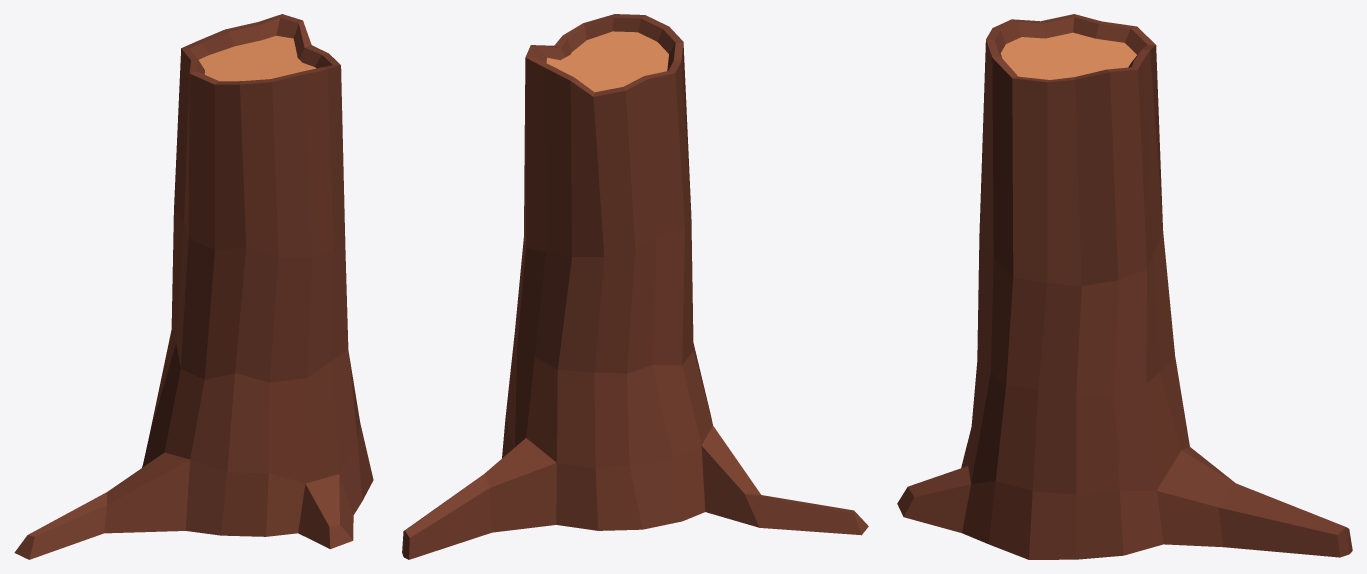
The model's file is pine_trunk_type_6_LOD0.fbx.
3 views of the same model, side by side, from view 1: azimuth 30°, elevation 25°; view 2: azimuth 150°, elevation 25°; view 3: azimuth 270°, elevation 25° (orthographic). The views are drawn at different scales.
Parts seen in each view (by area): view 1: pt_type_4; view 2: pt_type_4; view 3: pt_type_4.
Boxes of the visible parts, left/top/right/bottom form: pt_type_4: left=14, top=14, right=373, bottom=559; pt_type_4: left=402, top=14, right=868, bottom=559; pt_type_4: left=897, top=14, right=1352, bottom=559.
Size of the model in its own units: 345 by 424 by 368.
